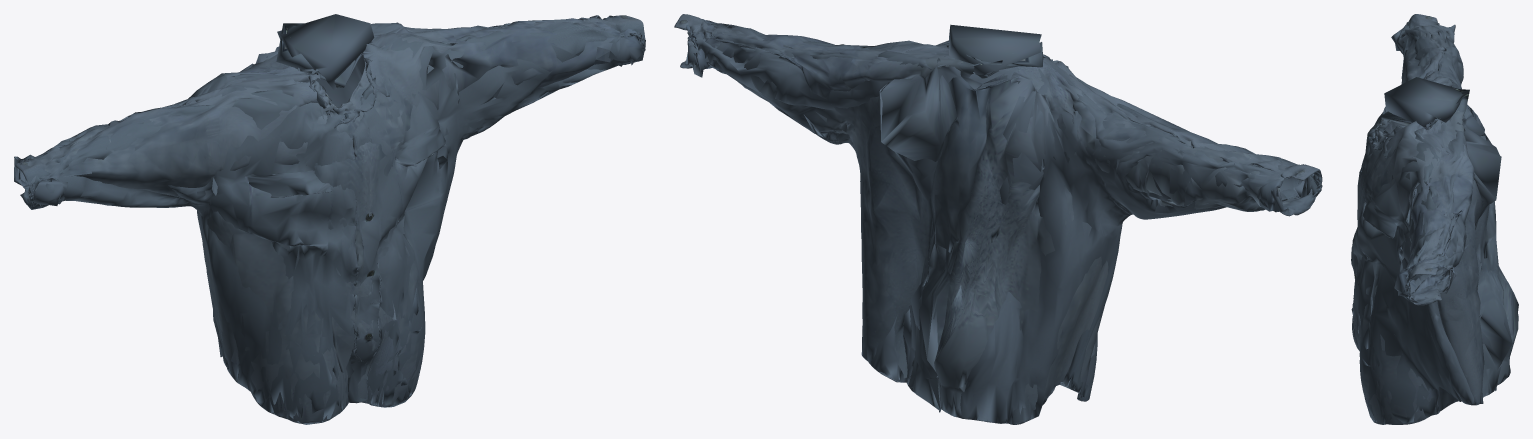
3 views of the same model, side by side, from view 1: azimuth 30°, elevation 25°; view 2: azimuth 150°, elevation 25°; view 3: azimuth 270°, elevation 25° (orthographic). The views are drawn at different scales.
Parts seen in each view (by area): view 1: Mesh_0.001; view 2: Mesh_0.001; view 3: Mesh_0.001.
Boxes of the visible parts, left/top/right/bottom form: Mesh_0.001: left=14, top=14, right=645, bottom=424; Mesh_0.001: left=674, top=14, right=1322, bottom=424; Mesh_0.001: left=1351, top=14, right=1518, bottom=424.
Size of the model in its own units: 1.72 by 0.9589 by 0.4692.
1 material, 1 textured.
